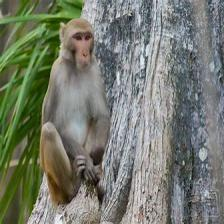monkey: (38, 19, 108, 208)
